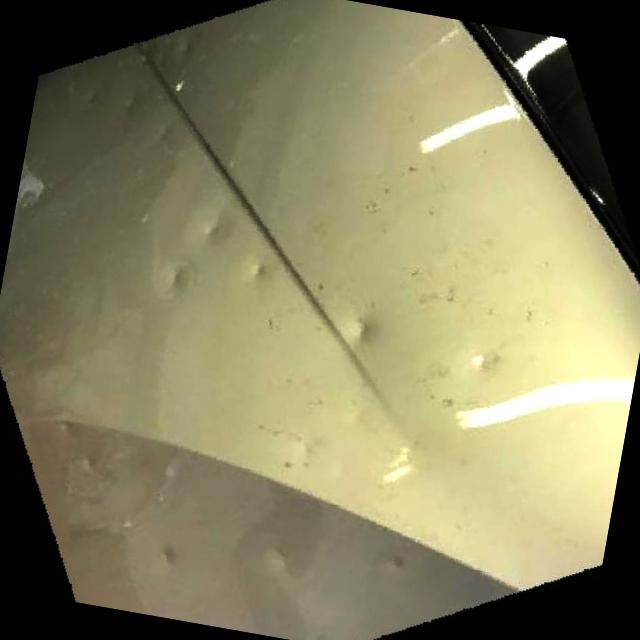dent: (342, 314, 374, 348), (261, 544, 294, 574), (202, 216, 232, 246), (470, 347, 500, 374), (152, 115, 178, 146), (167, 264, 190, 290), (249, 260, 272, 282), (386, 552, 408, 574), (175, 38, 195, 62), (120, 91, 138, 111), (160, 544, 178, 564)
